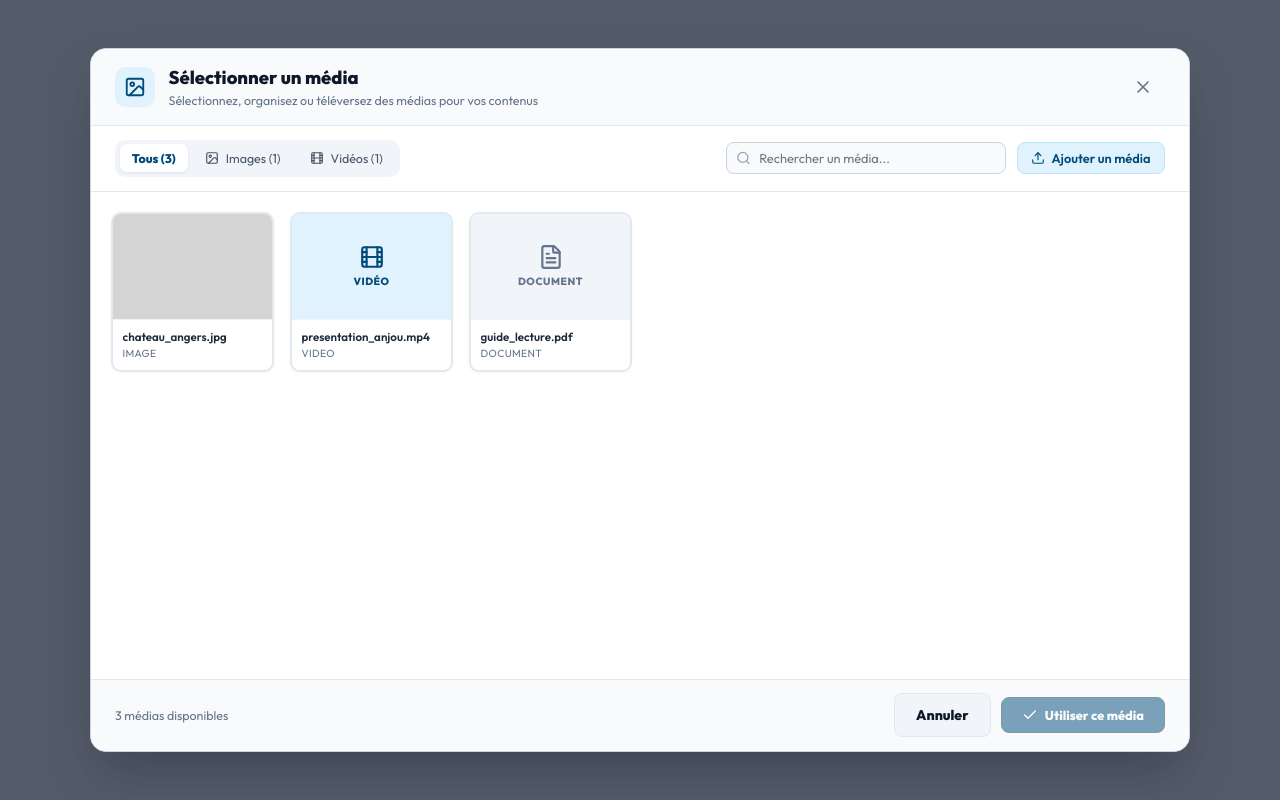
Test case: MediaLibraryModal component tests › filters media dynamically via search query
Check: the text "chateau_angers.jpg" is shown, box [123,329,227,344]
Type "chateau" into the search field labelled "Rechercher un média..." at (866, 158), box [726,142,1006,174]
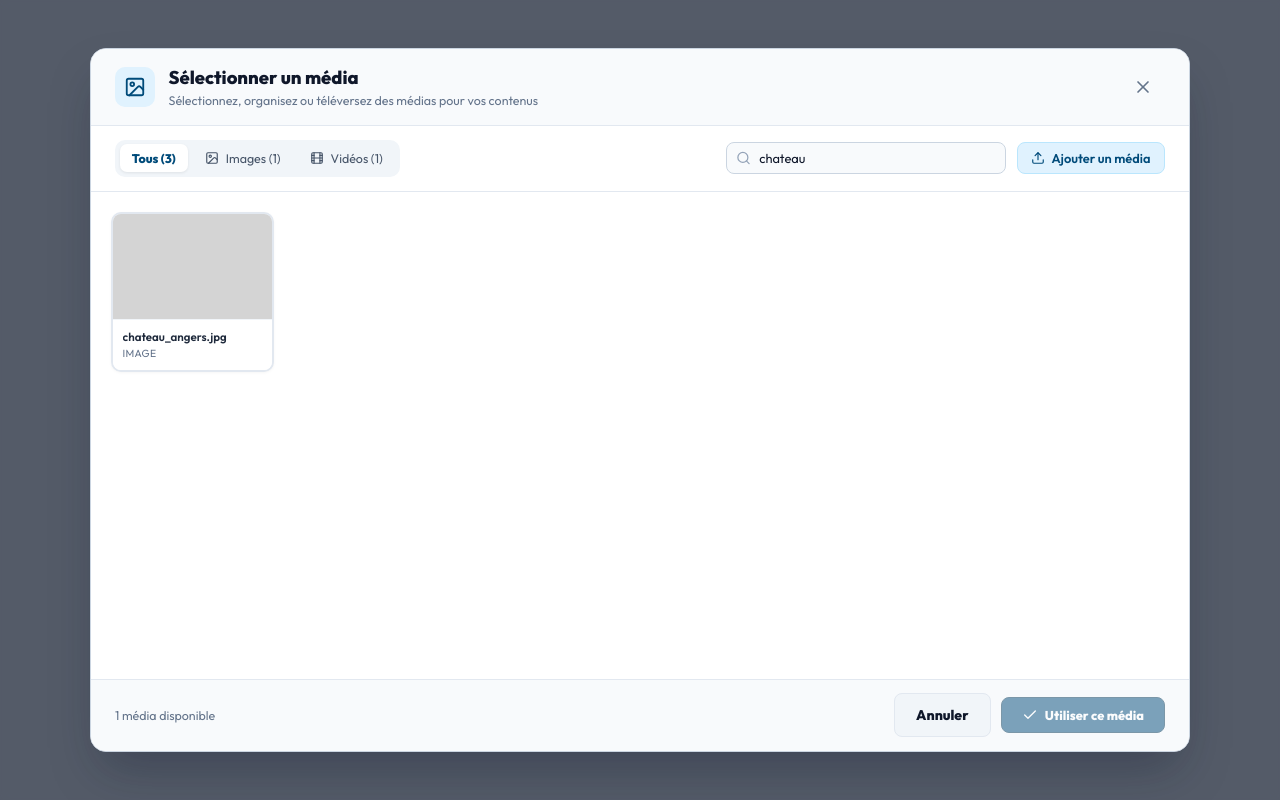
Check: the text "chateau_angers.jpg" is shown, box [123,329,227,344]
Check: the option "presentation_anjou.mp4" is gone
